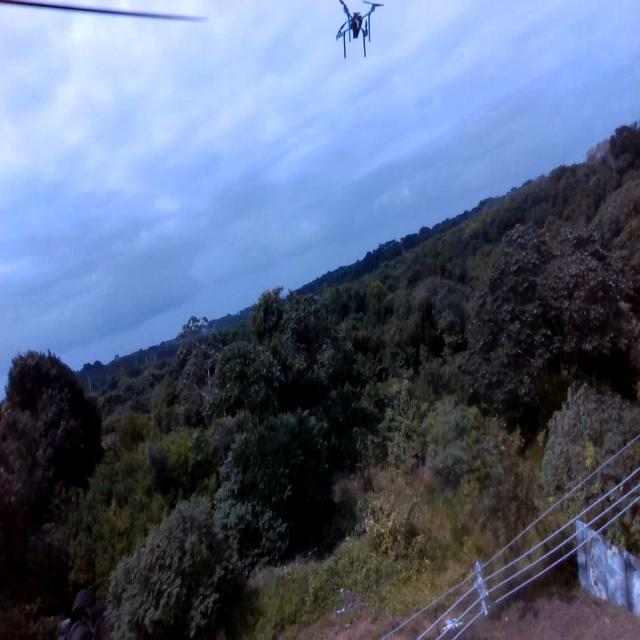-uav-: (329, 1, 386, 64)
